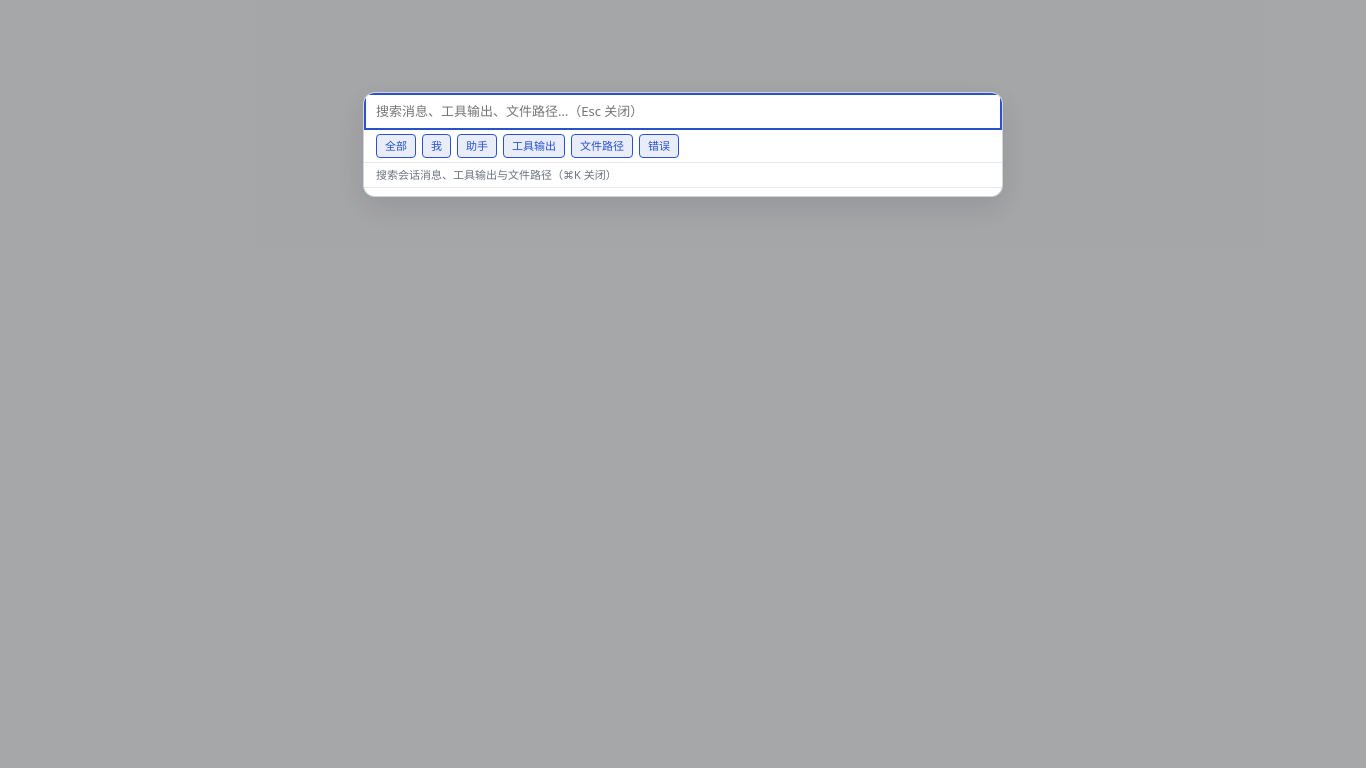
Test case: 来源过滤器 › 只看文件路径：消息类命中消失，只剩路径那一行
The image size is (1366, 768).
Type "关键词" into the field named "搜索会话记录" at (683, 112), box [364, 93, 1002, 130]
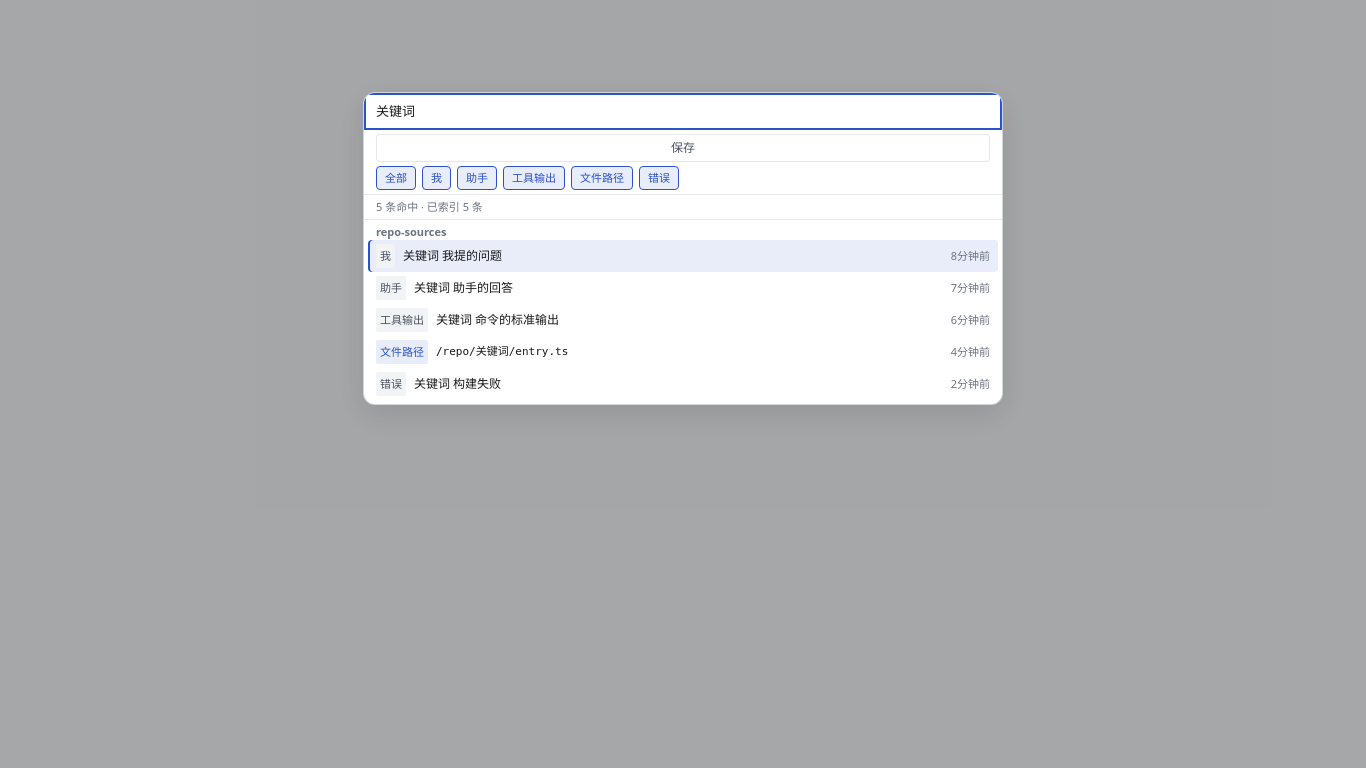
Expected: the number of buttons "我 关键词 我提的问题 8分钟前" is 5, [368, 240, 998, 272]; [368, 272, 998, 304]; [368, 304, 998, 336]; [368, 336, 998, 368]; [368, 368, 998, 400]
Note: 全部 → 清空 → 只留文件路径（集合运算就是契约里的过滤语义）。
Click the button "全部" at (396, 178), box [376, 166, 416, 190]
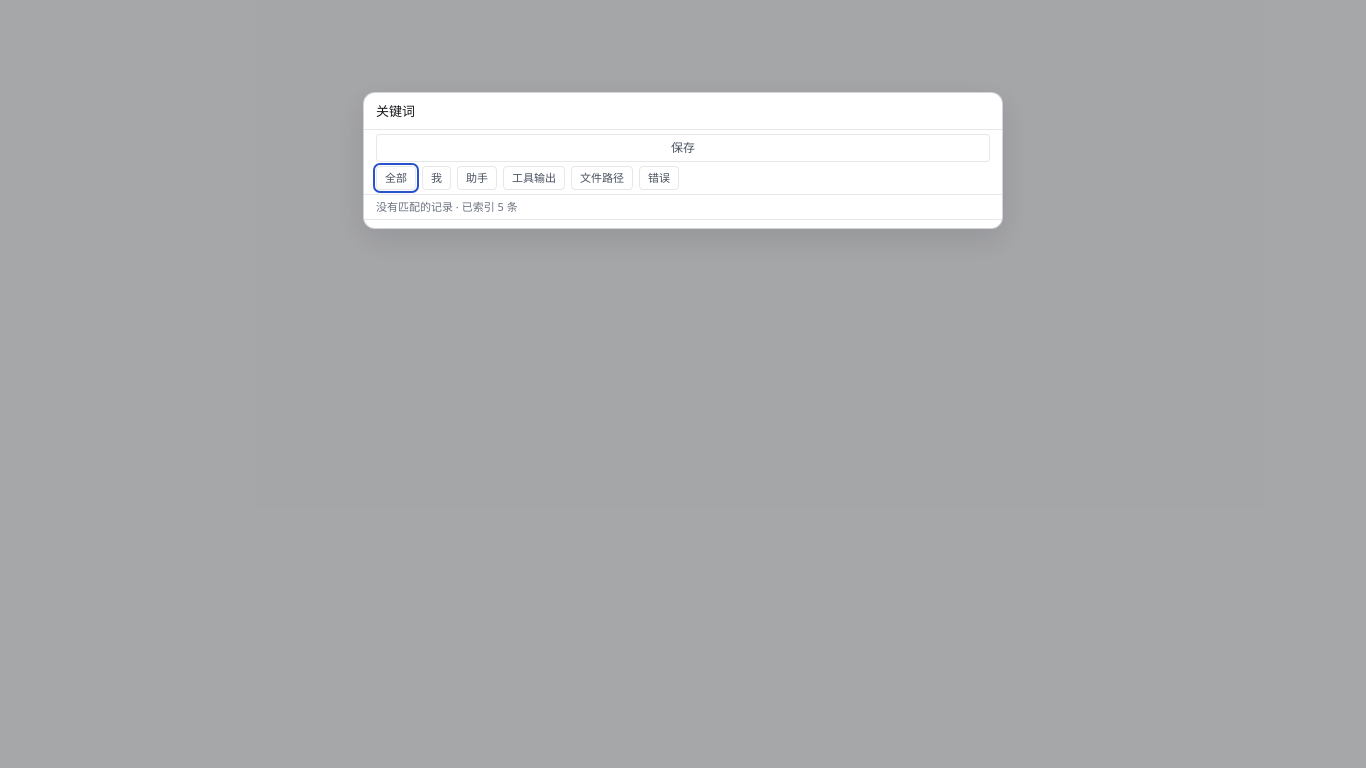
Click the button "文件路径" at (602, 178), box [571, 166, 633, 190]
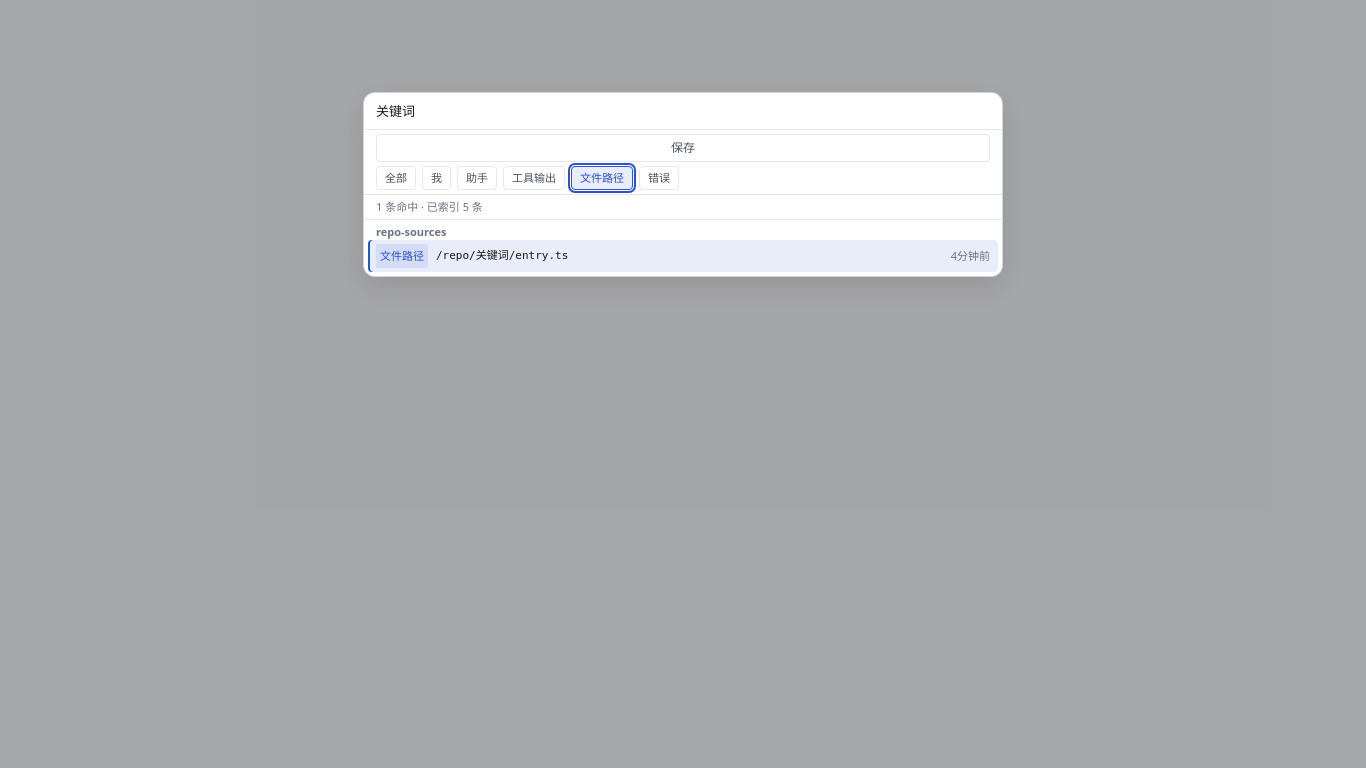
Expected: the number of buttons "文件路径 /repo/关键词/entry.ts 4分钟前" is 1, [368, 240, 998, 272]
